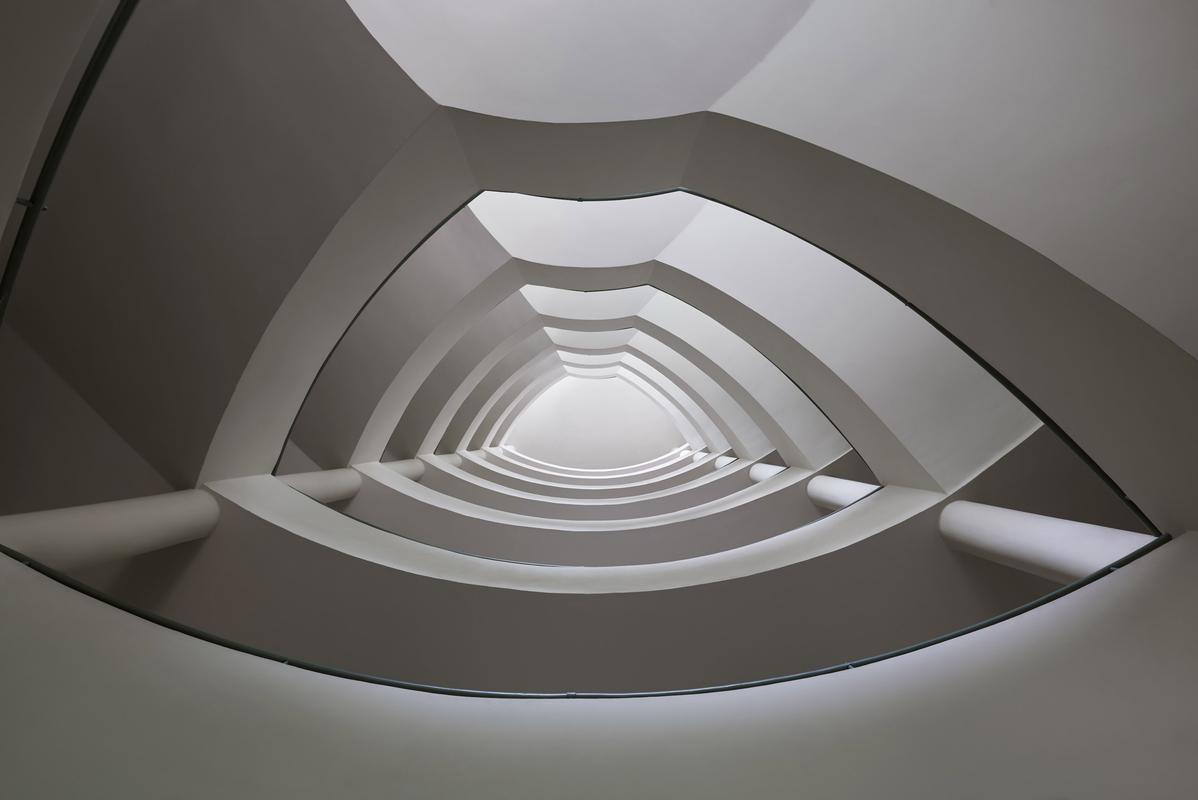buildings: (193, 161, 1145, 604)
